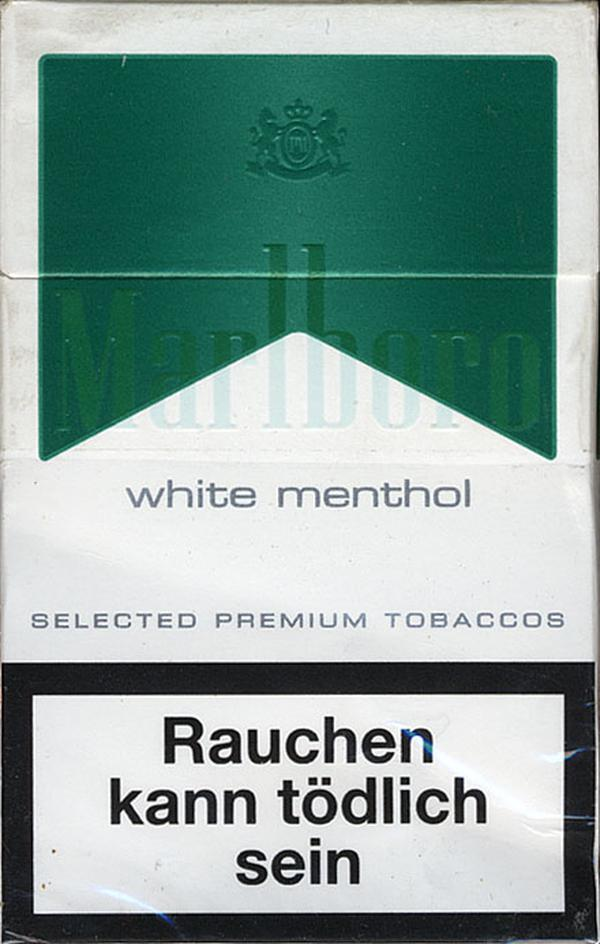marlboro_mentol: (1, 5, 597, 944)
